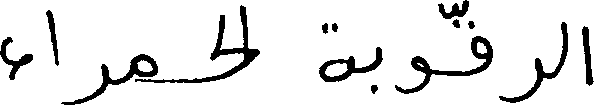ء: (0, 35, 31, 80)
ا: (232, 0, 265, 59), (45, 8, 58, 67), (580, 23, 591, 86)
ب: (367, 45, 381, 93)
ة: (317, 21, 354, 82)
ح: (202, 43, 265, 82)
ر: (61, 61, 108, 103), (501, 56, 542, 104)
ق: (448, 19, 491, 75)
ل: (208, 10, 228, 60), (556, 20, 567, 75)
م: (129, 51, 156, 83)
و: (393, 54, 430, 94)
